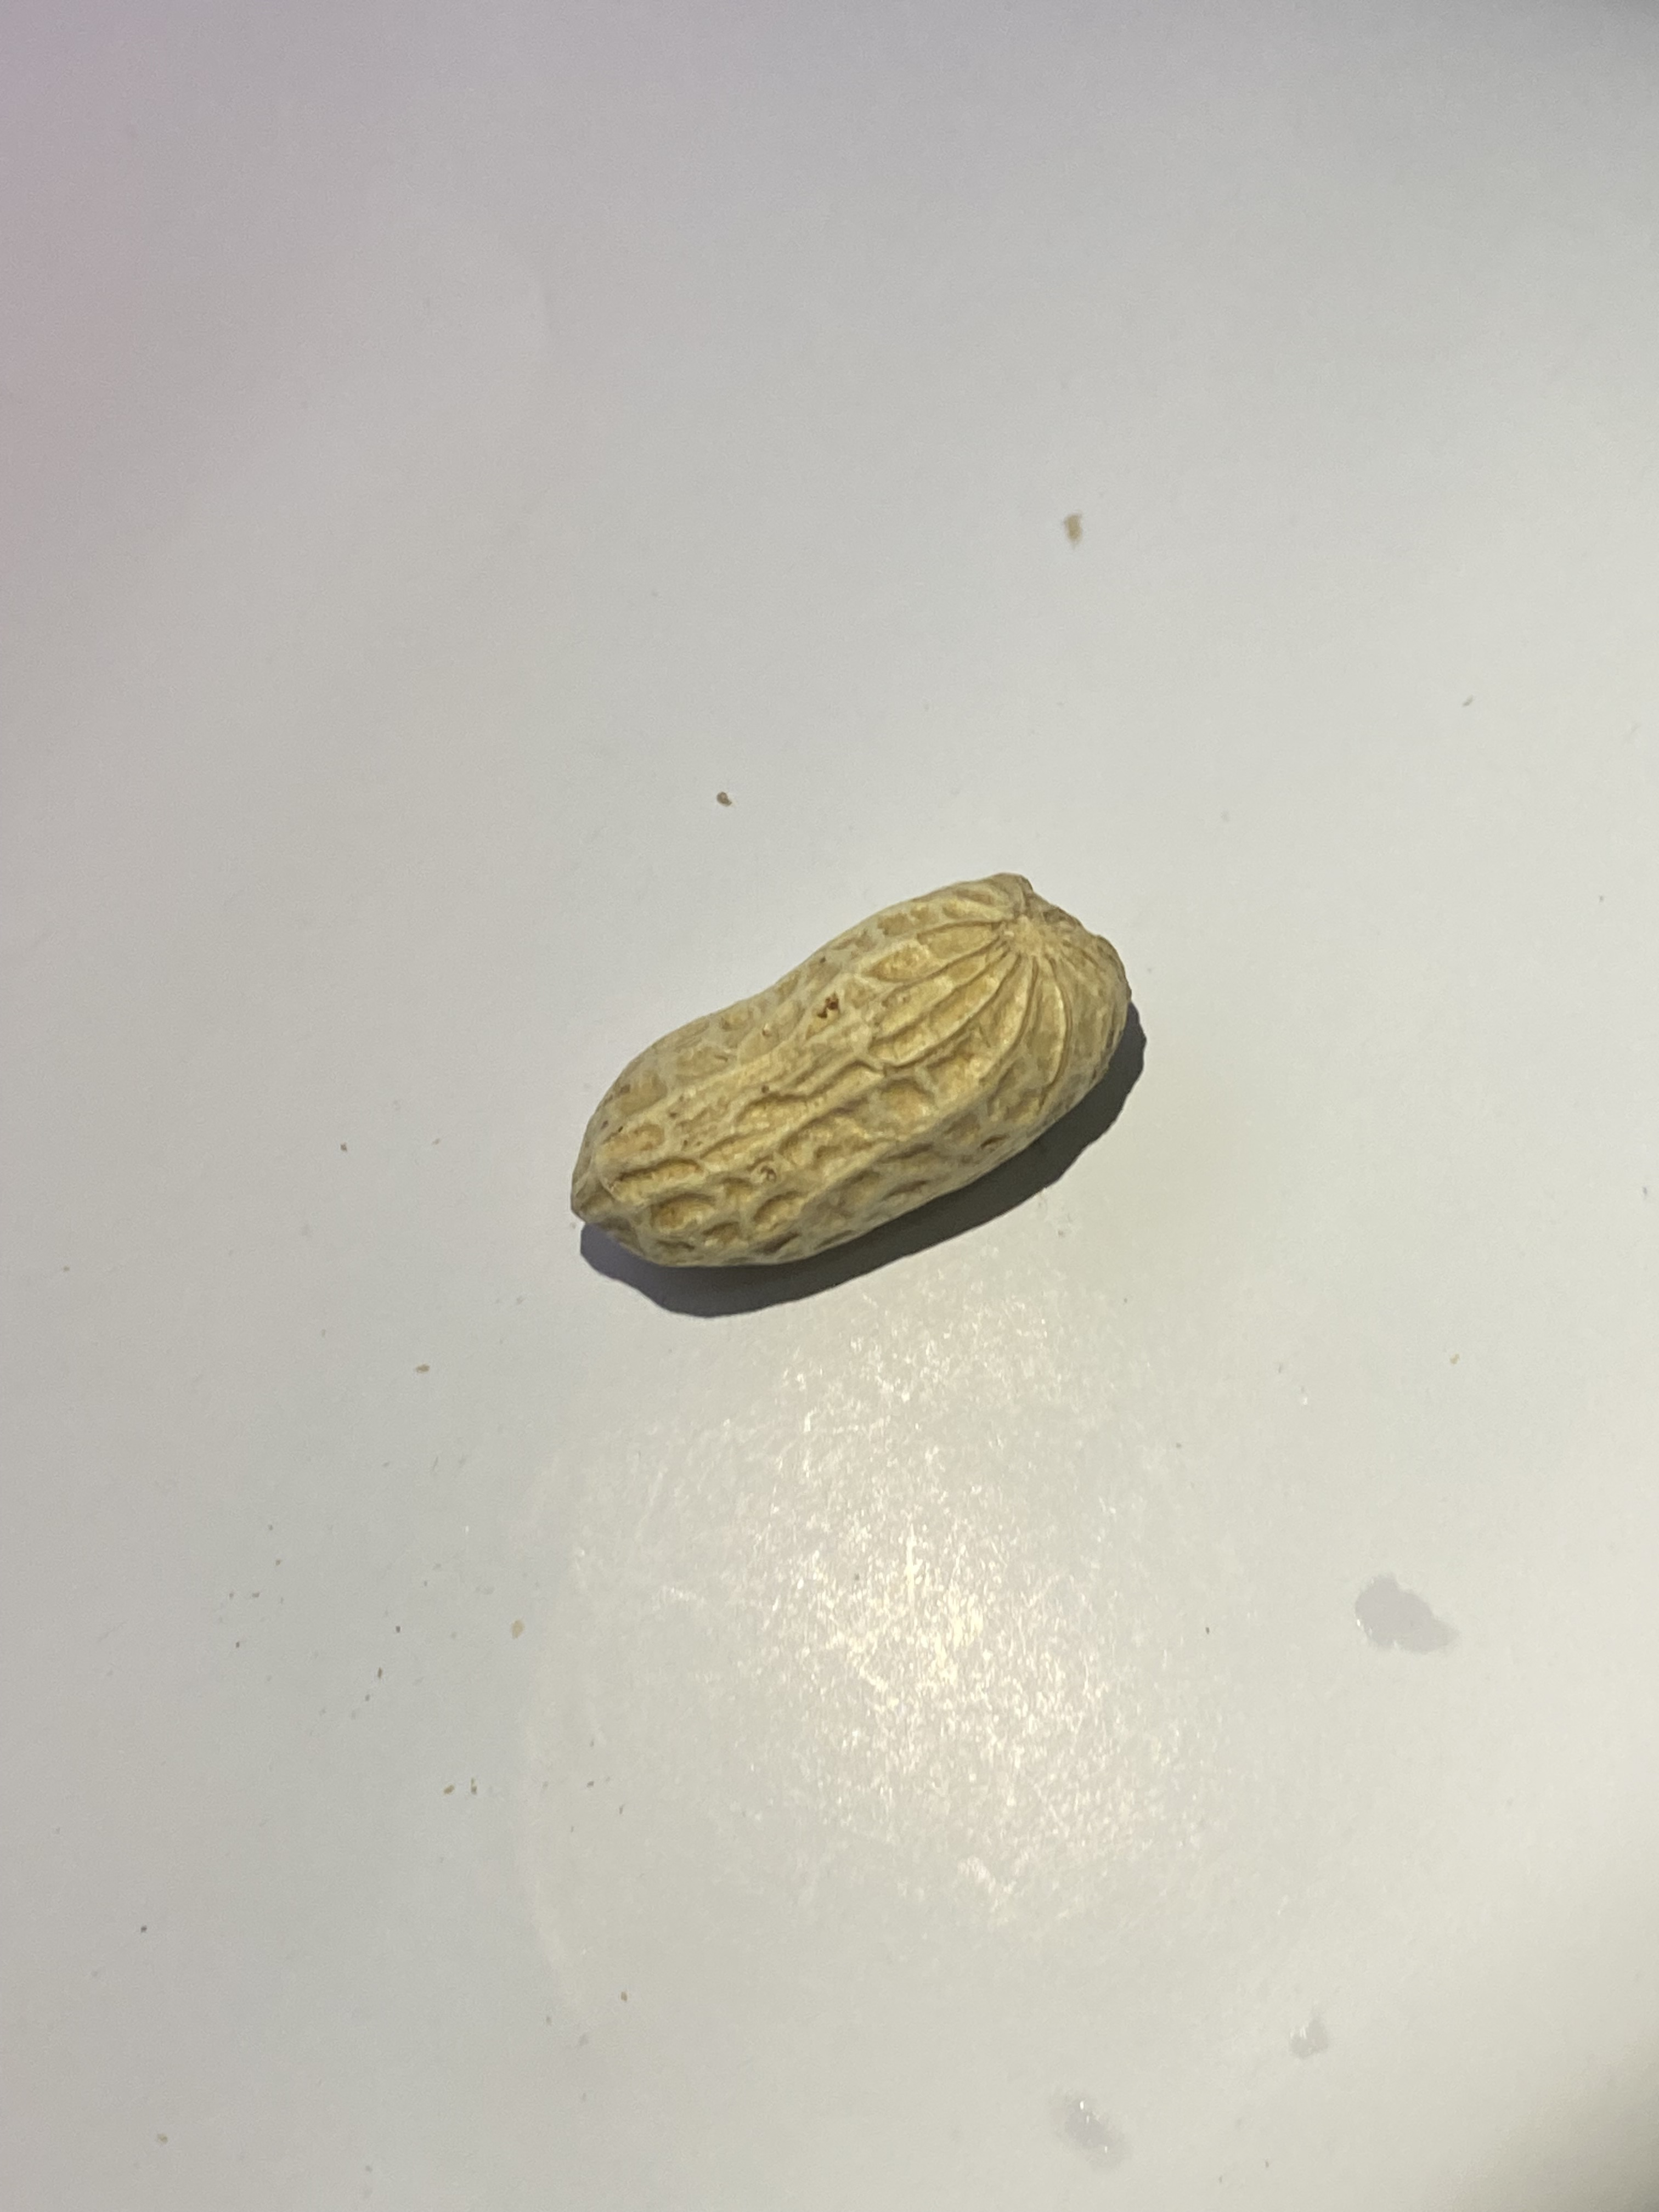kacang2: (530, 845, 1175, 1308)
